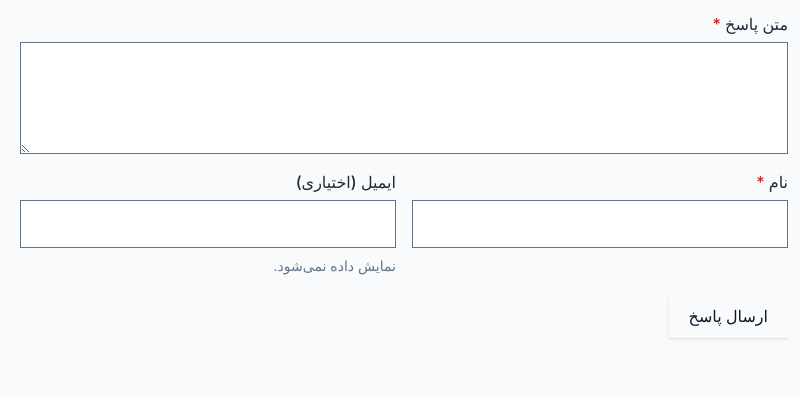
Scenario: ReviewForm replying to an entry that is gone › says so at the form instead of the raw «not found» message
The image size is (800, 396).
Type "شرکتی است" into the text box labelled "متن پاسخ *" at (404, 98), box [20, 42, 788, 154]
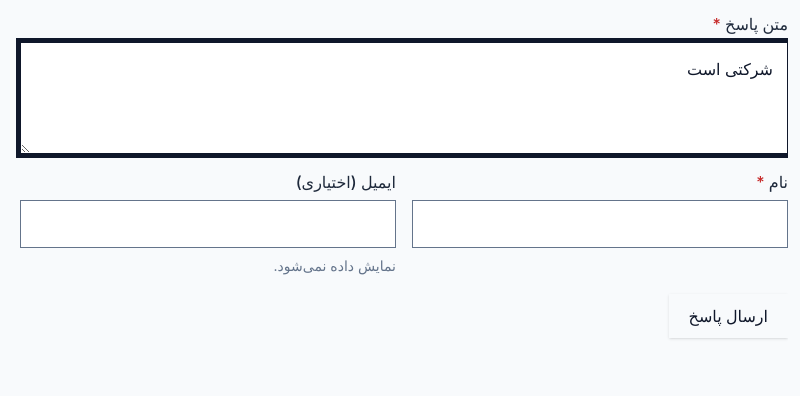
Type "علی" into the field named "نام (" at (600, 224), box [413, 201, 787, 247]
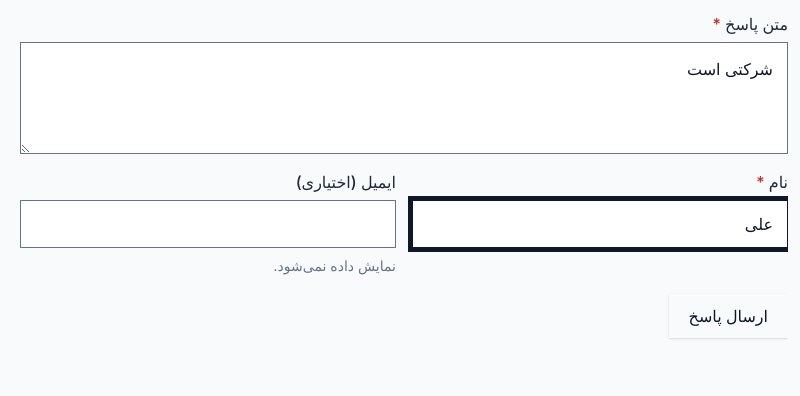
Click the button "ارسال پاسخ" at (728, 316), box [669, 294, 788, 338]
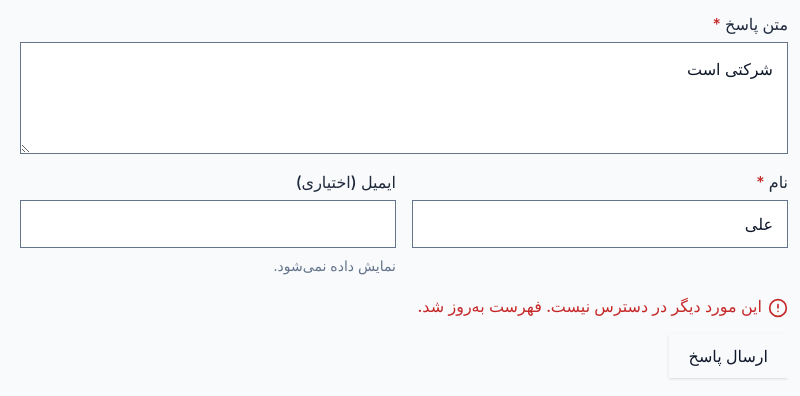
expect the message shows "این مورد دیگر در دسترس نیست.": met, box [418, 296, 762, 316]
